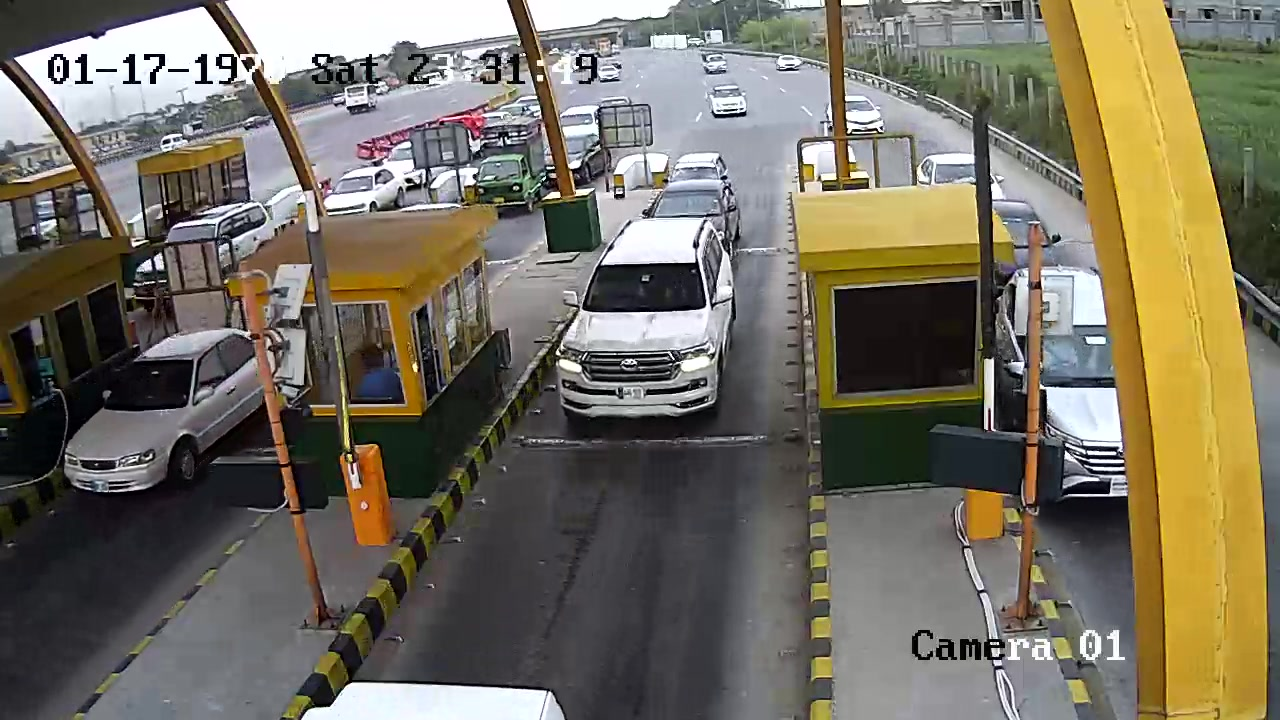F1: (559, 214, 754, 431)
